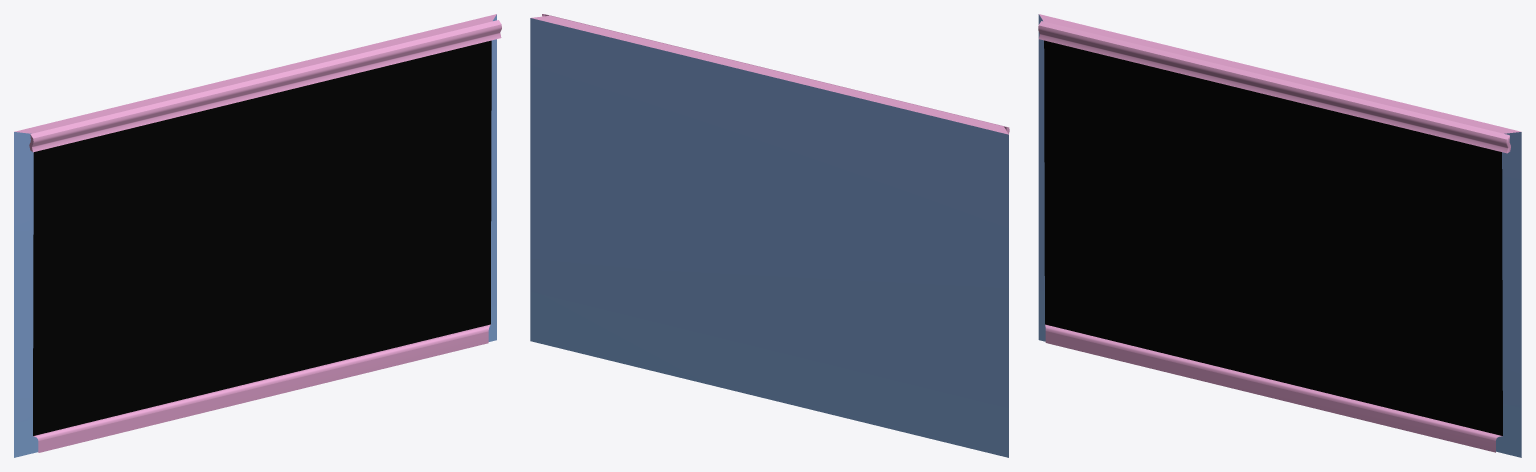
File: wall.FBX
3 views of the same model, side by side, from view 1: azimuth 30°, elevation 25°; view 2: azimuth 150°, elevation 25°; view 3: azimuth 330°, elevation 25° (orthographic).
Visible parts, largest first — view 1: 2A; view 2: 2A; view 3: 2A.
Part boxes in pixels (x1,y1,x2,y2): 2A: [14, 14, 501, 457]; 2A: [530, 14, 1009, 457]; 2A: [1038, 14, 1521, 457].
Size of the model in its own units: 494 by 319 by 17.77.
